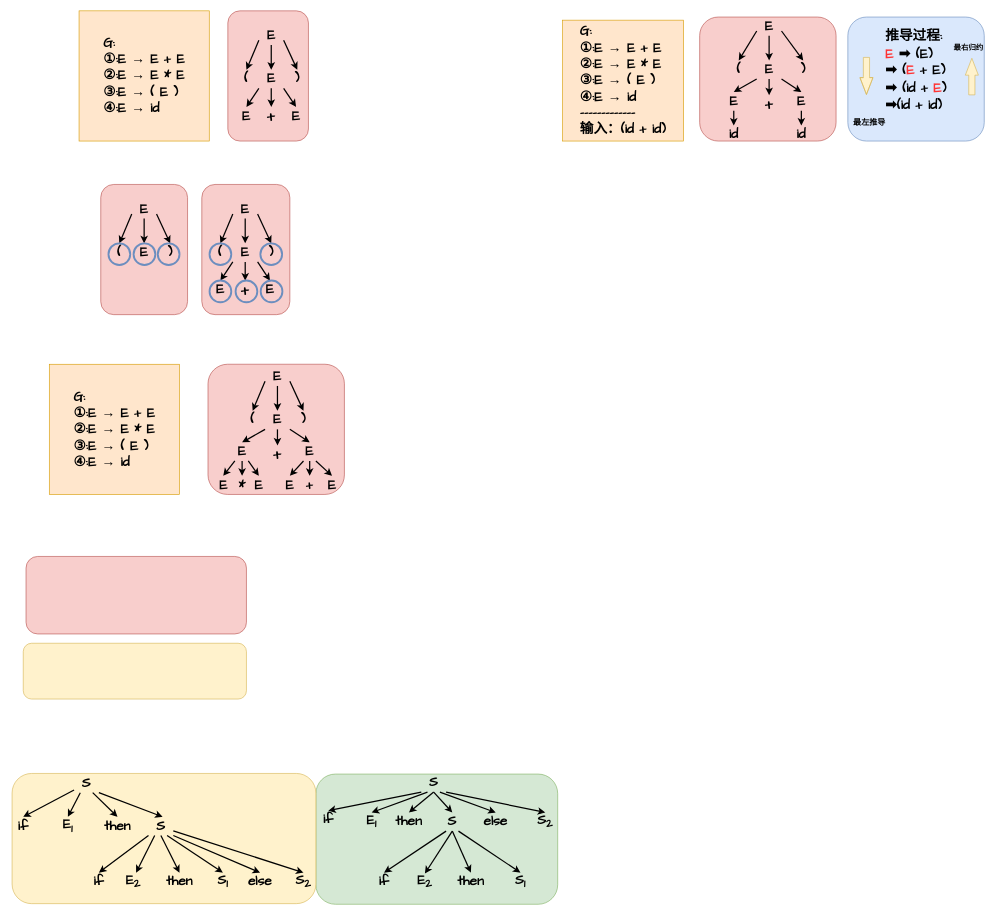
Image size: 1001x915. Some labels were removed from this diagram. The centre of each missing label's shape, as x and y in pixels:
G: S → if E then S | if E then S else S | Other statement: (135,595)
if E 1 then if E 2 then S 1 else S 2: (134,671)
